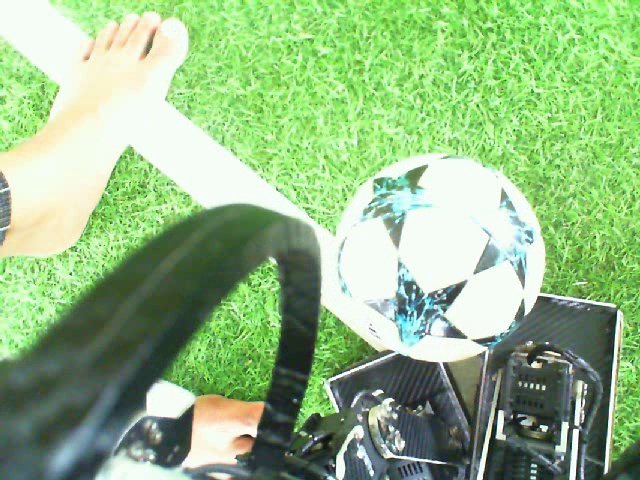ball: (329, 147, 547, 364)
